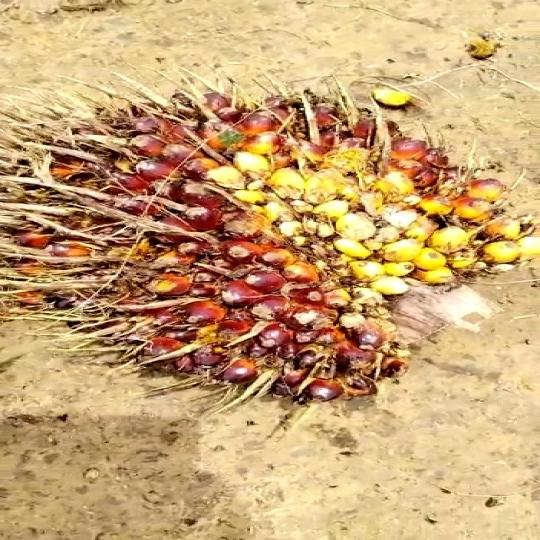masak: (0, 87, 540, 403)
